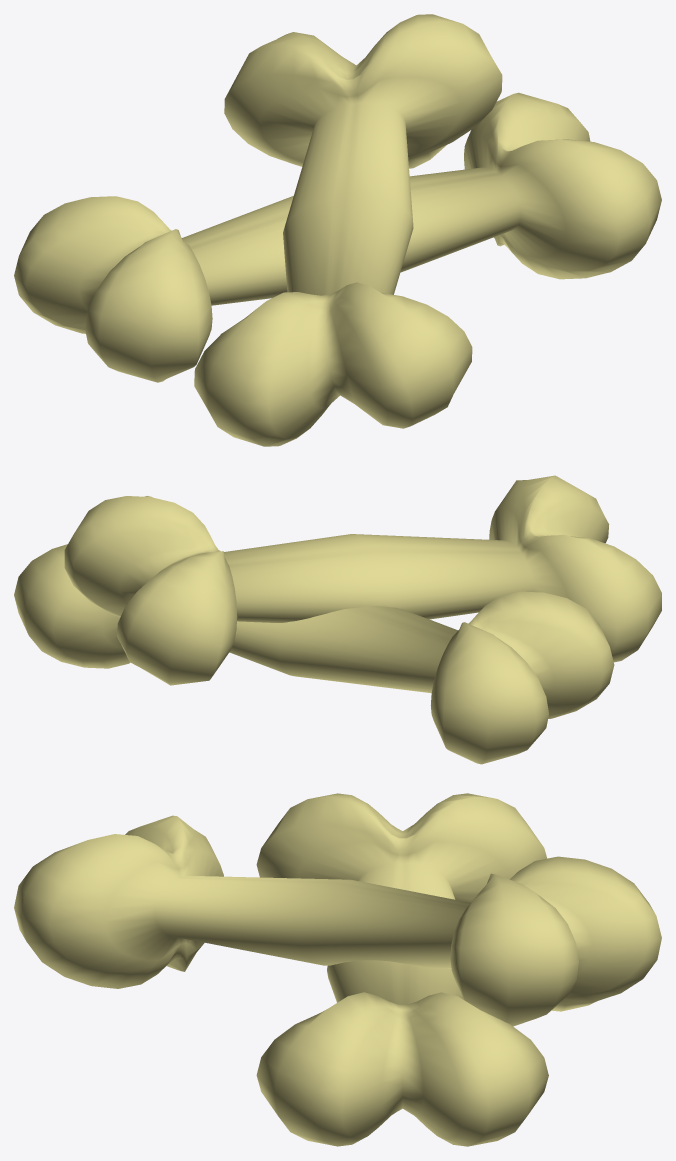
Rendered from Bones.fbx.
3 views of the same model, one above another, from view 1: azimuth 30°, elevation 25°; view 2: azimuth 150°, elevation 25°; view 3: azimuth 270°, elevation 25° (orthographic). The views are drawn at different scales.
Visible parts, largest first — view 1: Sphere.005; view 2: Sphere.005; view 3: Sphere.005.
Part boxes in pixels (left/top/right/bottom): Sphere.005: left=14, top=14, right=661, bottom=446; Sphere.005: left=14, top=475, right=661, bottom=764; Sphere.005: left=14, top=793, right=661, bottom=1146.
Size of the model in its own units: 1185 by 446 by 1145.
